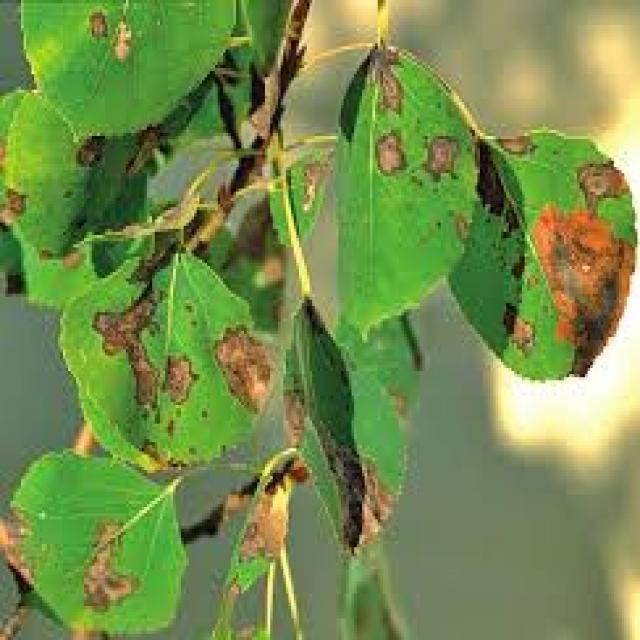leaf_rust: (451, 130, 632, 374), (66, 254, 268, 461)
